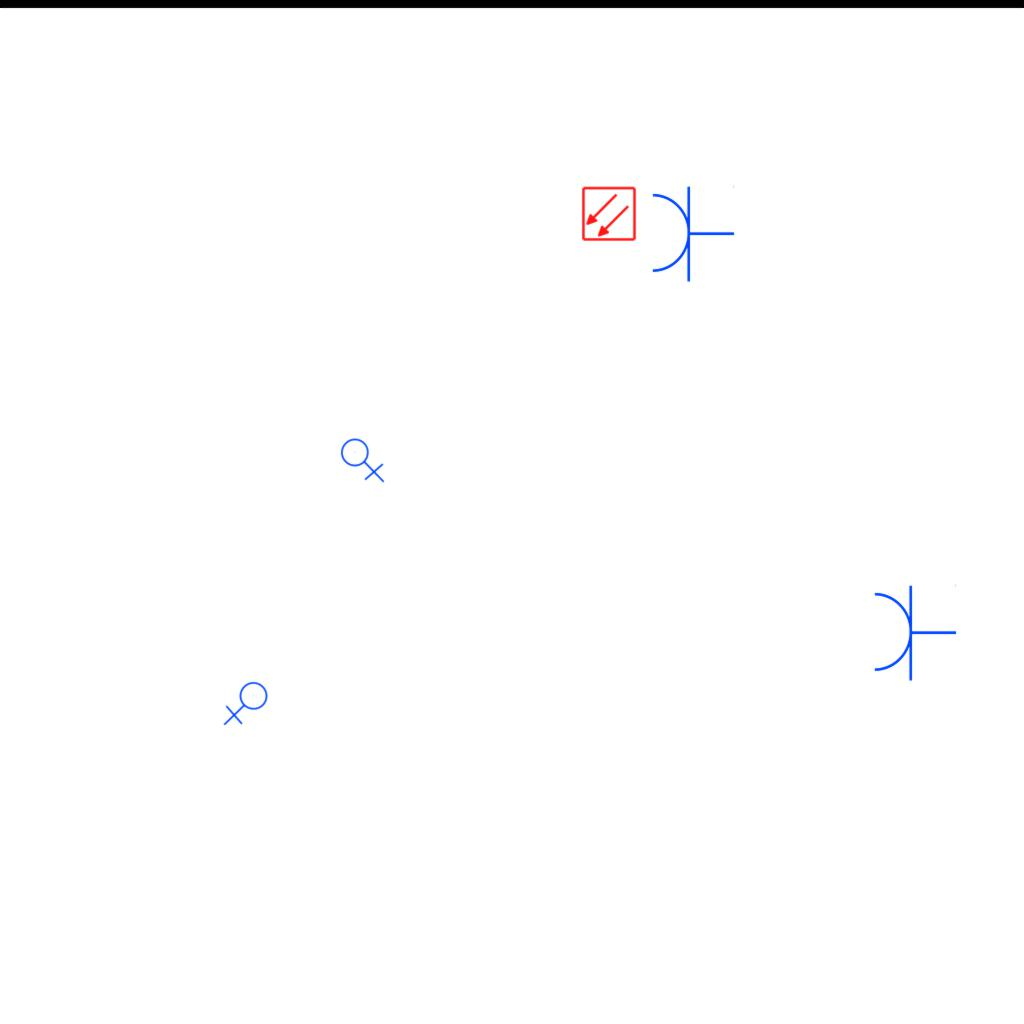Elektroanschluss_allgemein_230V_Geraeteanschlussdose_230V: (340, 434, 387, 483), (223, 681, 272, 728)
RMO_Rauchmelder_optischer: (581, 186, 637, 242)
Schukosteckdose_einfach: (648, 183, 735, 283), (870, 582, 957, 682)
